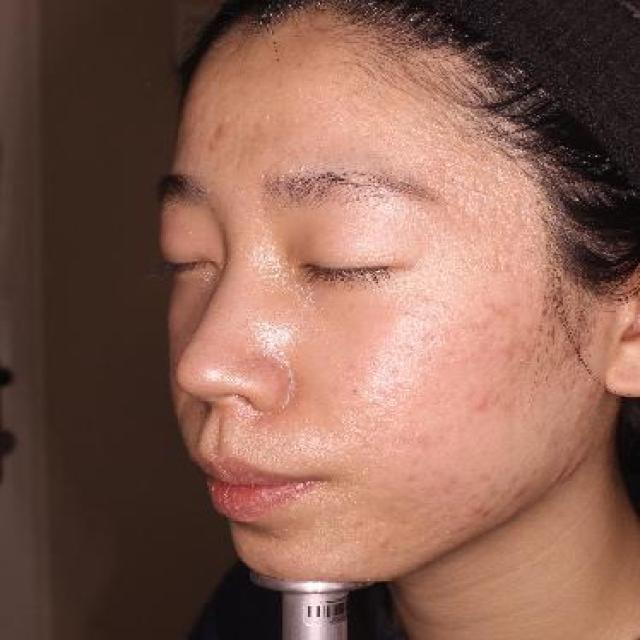dark spot: (205, 114, 233, 148), (512, 476, 530, 506)
